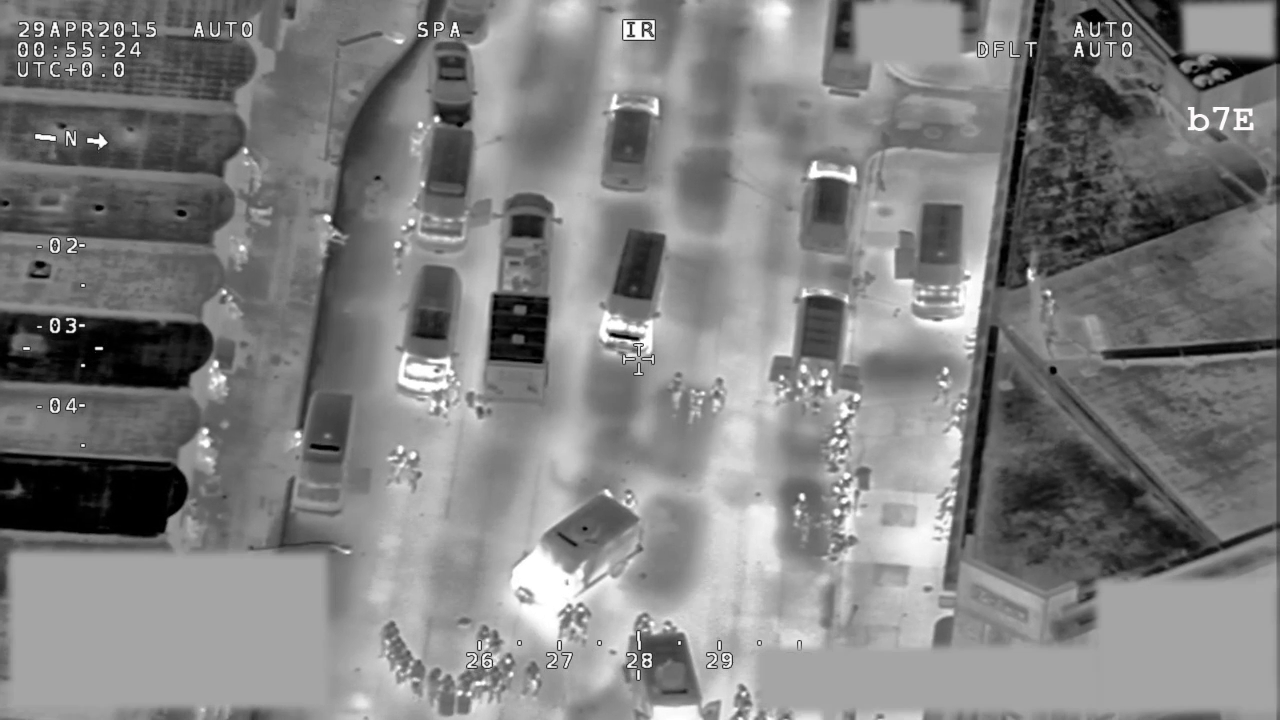vehicle: (504, 485, 649, 621), (393, 261, 471, 403), (891, 199, 976, 326), (591, 227, 671, 360), (767, 287, 865, 394), (288, 391, 362, 513), (480, 292, 550, 407), (418, 126, 475, 253), (793, 158, 864, 257), (598, 88, 661, 192), (498, 193, 556, 295), (426, 40, 477, 125)
